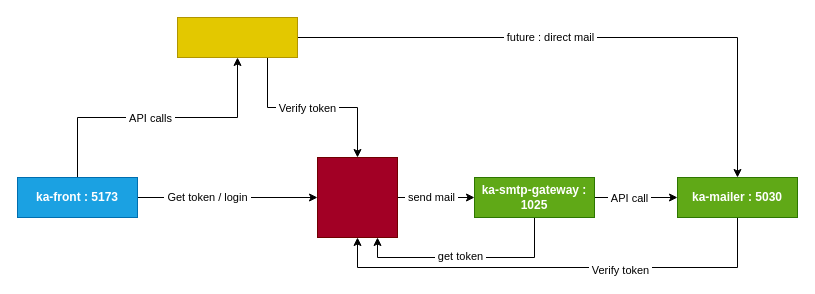
The diagram is 815 pixels wide and 294 high, and some of its shapes have lost their labels. The box of each missing label's shape, as (x1, y1, x2, y2) in pixels:
ka-back : 5027: (176, 16, 298, 58)
Keycloak: (316, 156, 398, 238)
